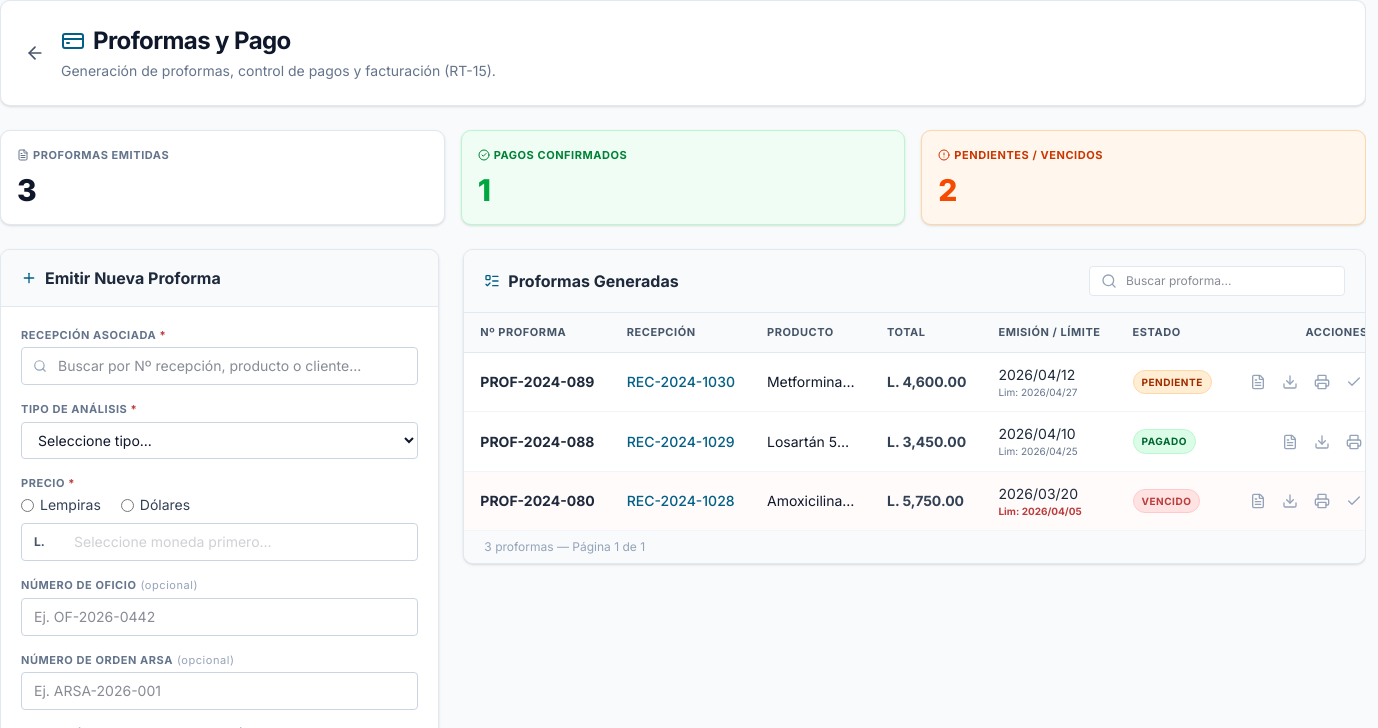
Scenario: ProformasPagoPage — /rac/proformas › Recepción — autocomplete, no select estático › el dropdown se cierra al seleccionar una opción
Type "metformina" into the field with test id "recepcion-search" at (220, 366), box left=21, top=347, right=418, bottom=385
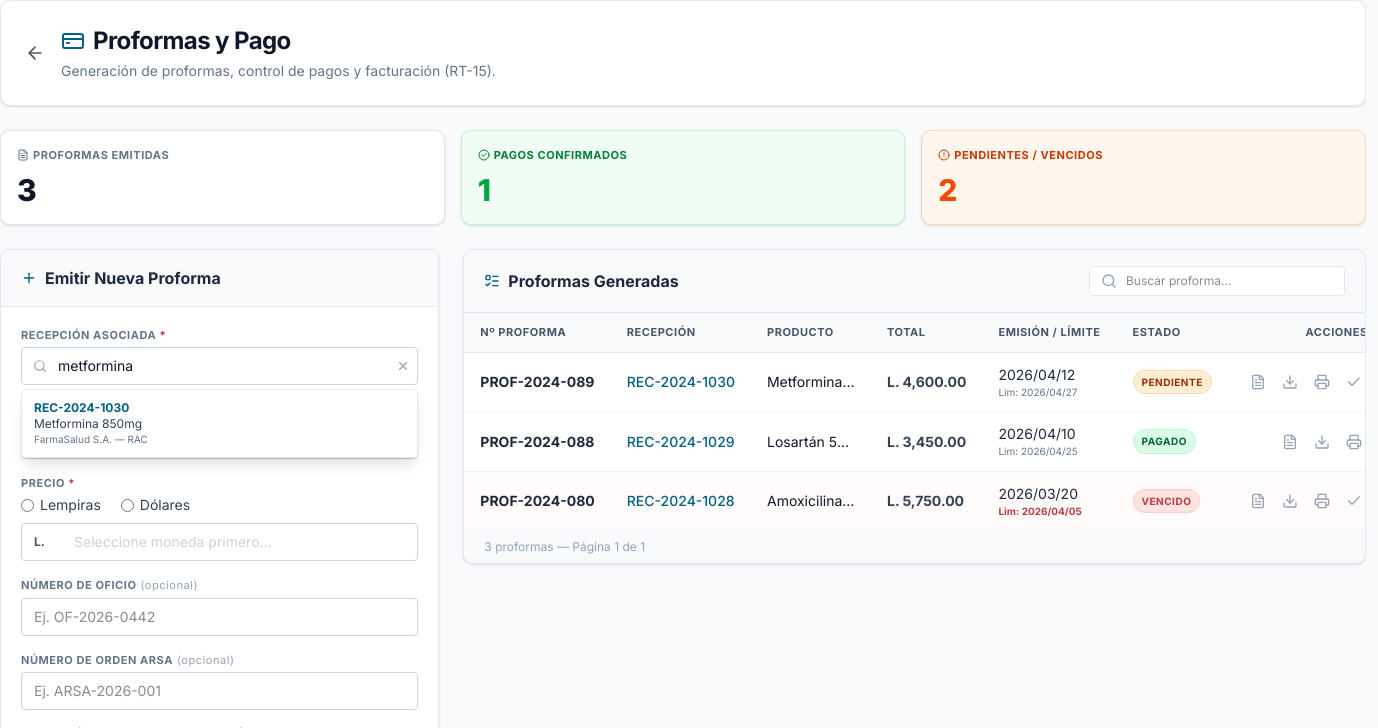
Click the button with test id "recepcion-option" at (82, 408), box left=22, top=390, right=417, bottom=457
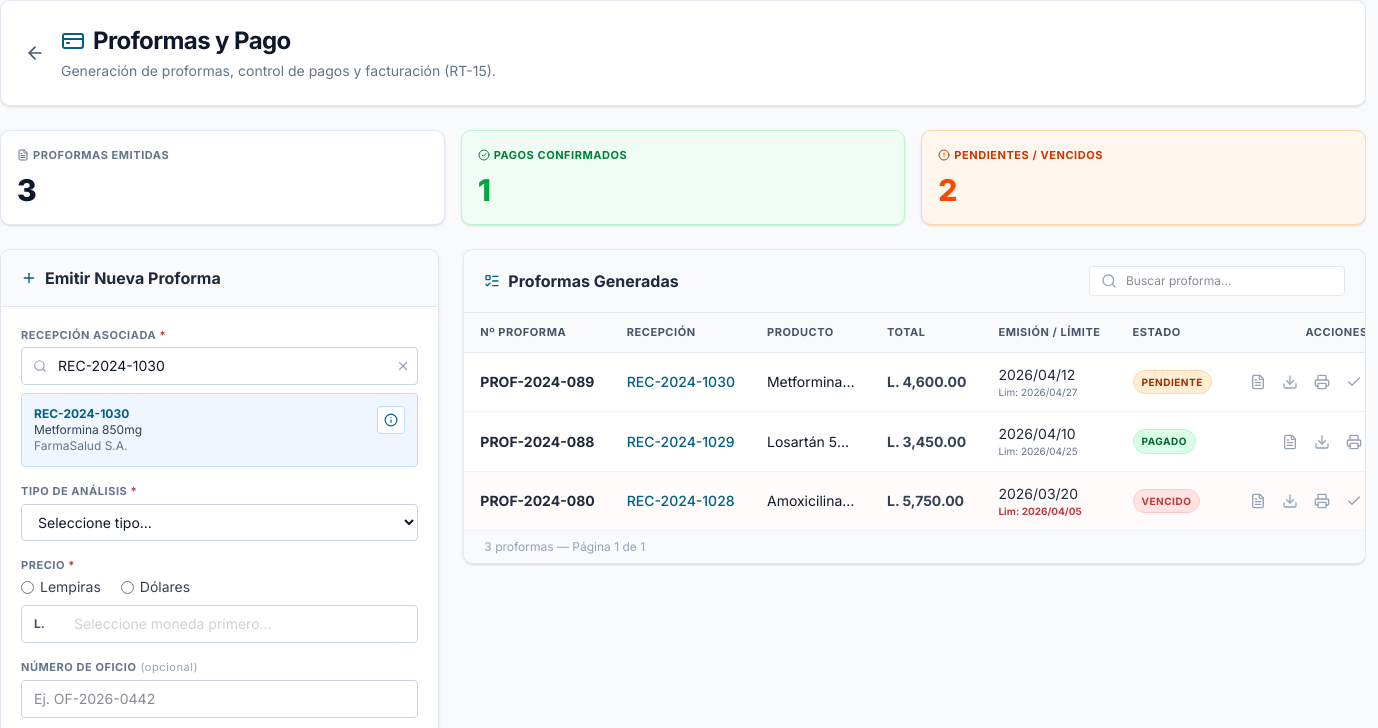
Result: the list with test id "recepcion-dropdown" is gone
